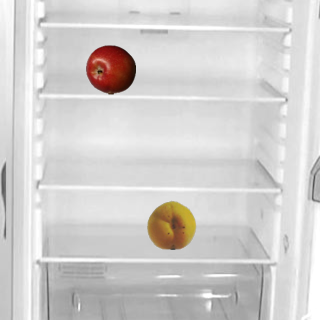Apple Braeburn: (85, 44, 135, 94)
Peach 2: (146, 199, 196, 249)
